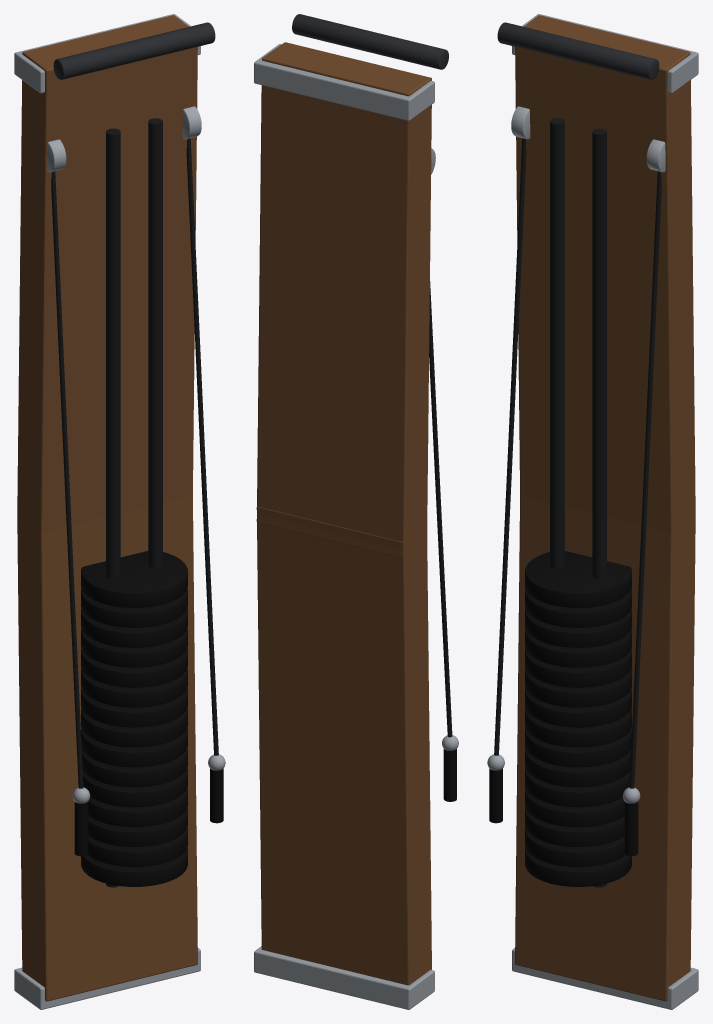
Rendered from cable_premium.glb.
The picture shows the model from 3 angles, left to right: view 1: azimuth 30°, elevation 25°; view 2: azimuth 150°, elevation 25°; view 3: azimuth 330°, elevation 25°; orthographic projection. The views are drawn at different scales.
Parts seen in each view (by area): view 1: Cube.001, Cube, Cylinder.015, Cylinder.016, Cylinder.014, Cylinder.023, Cylinder.018, Cylinder.021, Cylinder.008, Cylinder.009, Cylinder.007, Cylinder.006 (+16 smaller); view 2: Cube.001, Cube, Cube.002, Cube.003, Cylinder.023, Cylinder.018, Cylinder.019; view 3: Cube.001, Cube, Cylinder.016, Cylinder.015, Cylinder.014, Cylinder.023, Cylinder.021, Cylinder.018, Cylinder.008, Cylinder.009, Cylinder.007, Cylinder.006 (+16 smaller).
Part boxes in pixels (<box>): Cube.001: <box>17,15,197,539</box>; Cube: <box>17,495,197,1001</box>; Cylinder.015: <box>106,128,120,887</box>; Cylinder.016: <box>148,118,162,568</box>; Cylinder.014: <box>81,551,187,607</box>; Cylinder.023: <box>53,22,215,79</box>; Cylinder.018: <box>51,171,83,788</box>; Cylinder.021: <box>186,138,218,755</box>; Cylinder.008: <box>81,688,187,727</box>; Cylinder.009: <box>81,668,187,707</box>; Cylinder.007: <box>81,708,187,747</box>; Cylinder.006: <box>81,728,187,767</box>; Cube.001: <box>256,42,431,558</box>; Cube: <box>256,506,431,985</box>; Cube.002: <box>254,44,434,120</box>; Cube.003: <box>254,946,434,1009</box>; Cylinder.023: <box>292,14,448,69</box>; Cylinder.018: <box>429,281,452,737</box>; Cylinder.019: <box>443,749,456,801</box>; Cube.001: <box>515,15,695,539</box>; Cube: <box>515,495,695,1001</box>; Cylinder.016: <box>592,128,606,887</box>; Cylinder.015: <box>550,118,564,568</box>; Cylinder.014: <box>525,551,631,607</box>; Cylinder.023: <box>497,22,659,79</box>; Cylinder.021: <box>629,171,661,788</box>; Cylinder.018: <box>494,138,526,755</box>; Cylinder.008: <box>525,688,631,727</box>; Cylinder.009: <box>525,668,631,707</box>; Cylinder.007: <box>525,708,631,747</box>; Cylinder.006: <box>525,728,631,767</box>.
Size of the model in its own units: 0.38 by 2.17 by 0.2807.
